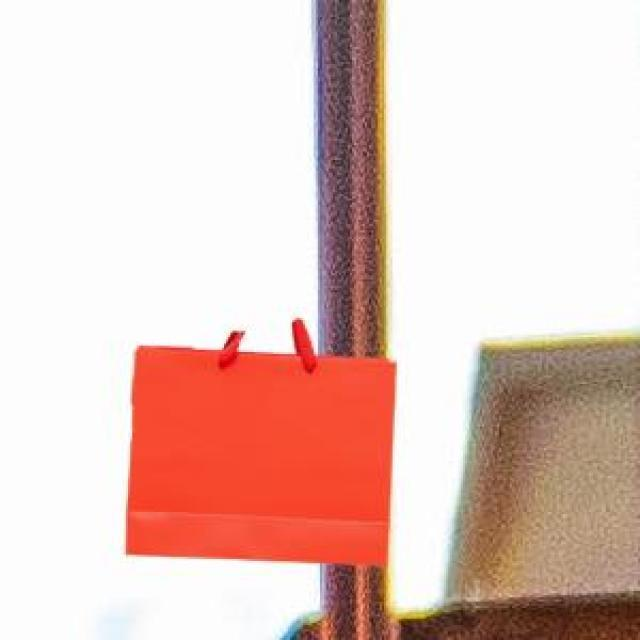paper: (123, 316, 392, 563)
